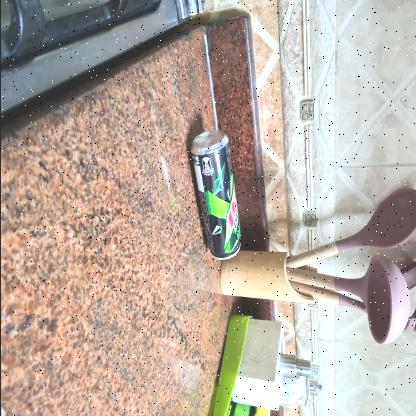Can: (189, 130, 242, 260)
